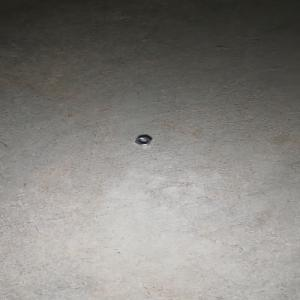Nut: (134, 136, 151, 146)
